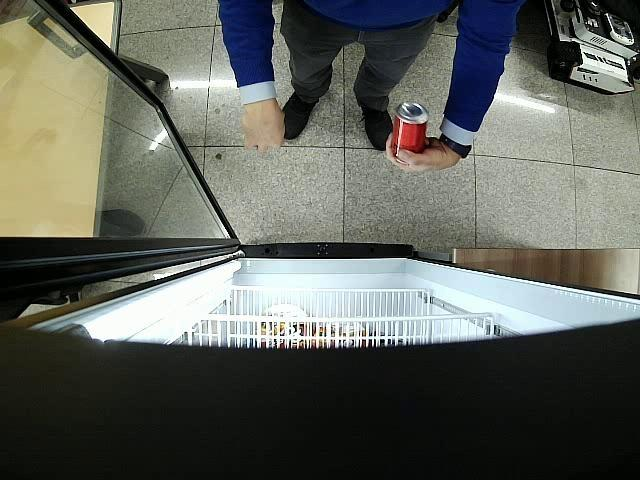11_cocaColaZero: (392, 100, 428, 158)
